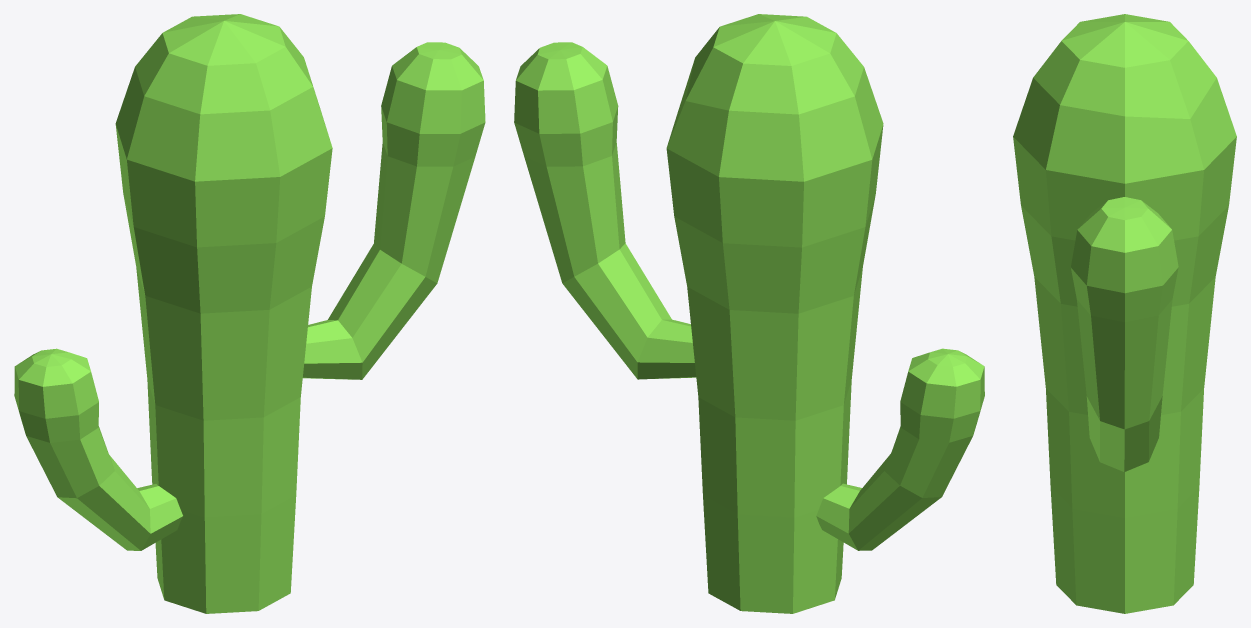
File: cactus2.fbx
3 renders of one model, left to right at view 1: azimuth 30°, elevation 25°; view 2: azimuth 150°, elevation 25°; view 3: azimuth 270°, elevation 25°, orthographic.
Parts seen in each view (by area): view 1: Cylinder.016; view 2: Cylinder.016; view 3: Cylinder.016.
Part boxes in pixels (bbox=[...]): Cylinder.016: bbox=[14, 14, 485, 613]; Cylinder.016: bbox=[514, 14, 984, 613]; Cylinder.016: bbox=[1013, 14, 1236, 613].
Bounding box in the file's own units: 105 × 123 × 44.24.
